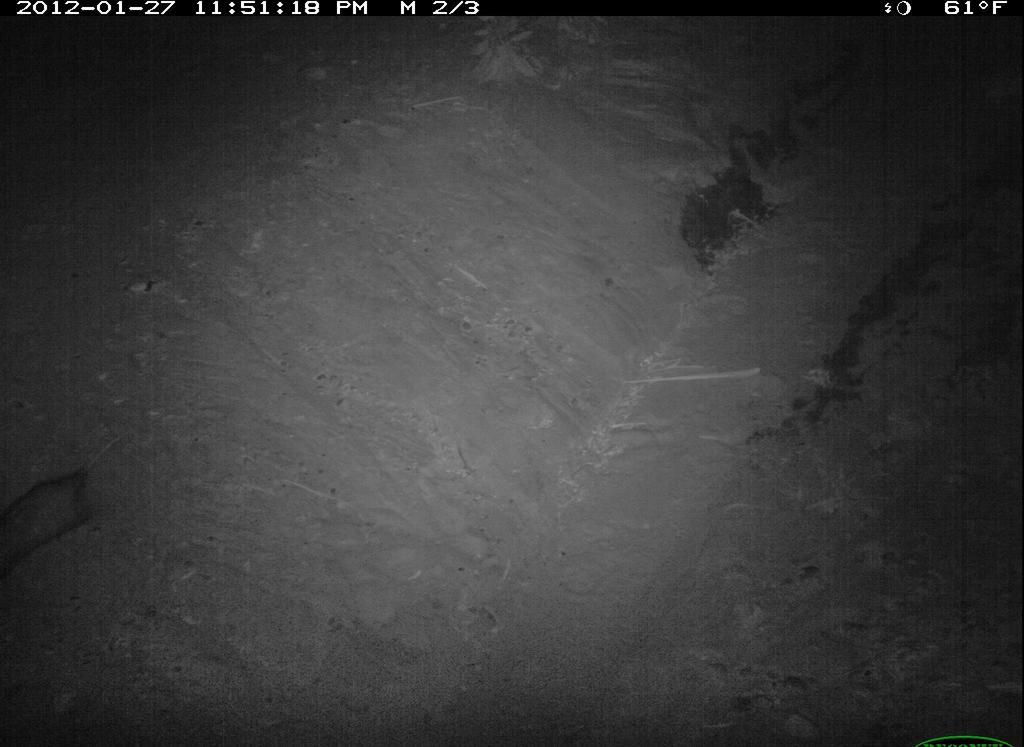opossum: (1, 424, 154, 579)
